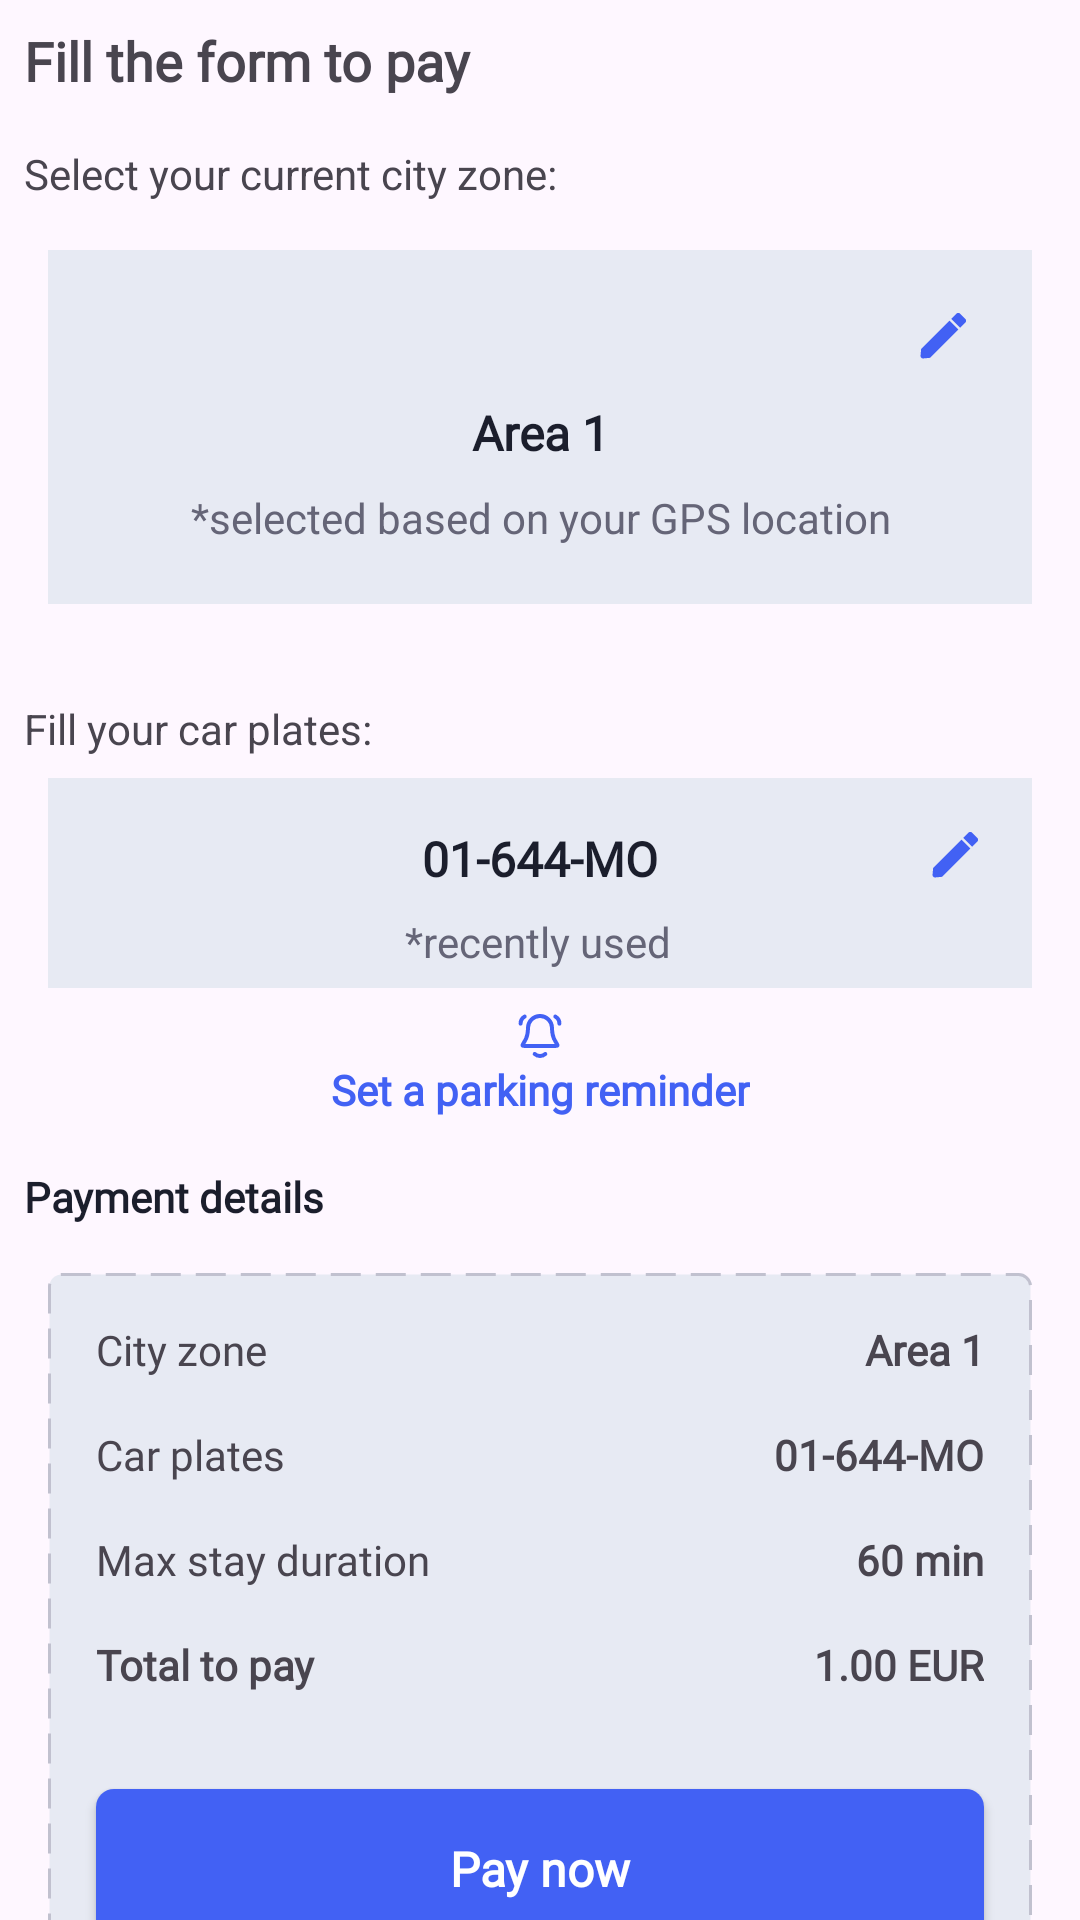

Named icons in this screenshot (1080 × 1920) and their bounding boxes, [left=x1, top=y1, right=x2, bottom=y2]:
edit: [left=920, top=313, right=966, bottom=359], [left=932, top=832, right=978, bottom=878]
